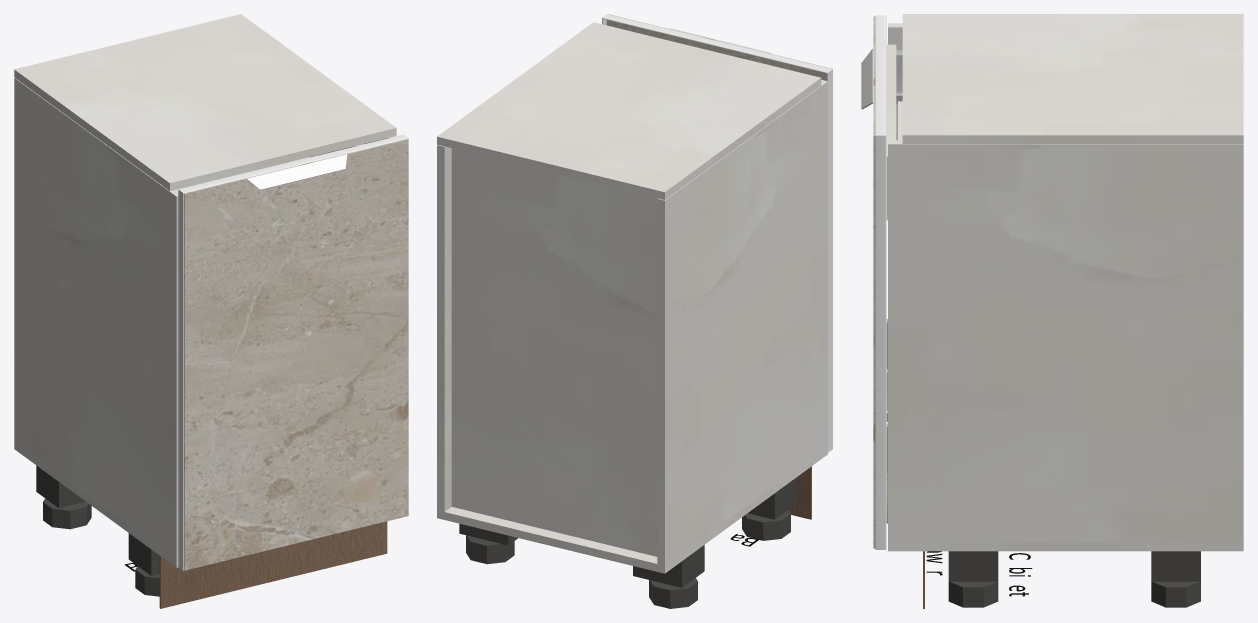
3 renders of one model, left to right at view 1: azimuth 30°, elevation 25°; view 2: azimuth 150°, elevation 25°; view 3: azimuth 270°, elevation 25°, orthographic. The views are drawn at different scales.
Size of what is drawn, in the model's own units: 0.45 by 0.82 by 0.6.
8 materials, 3 textured.
